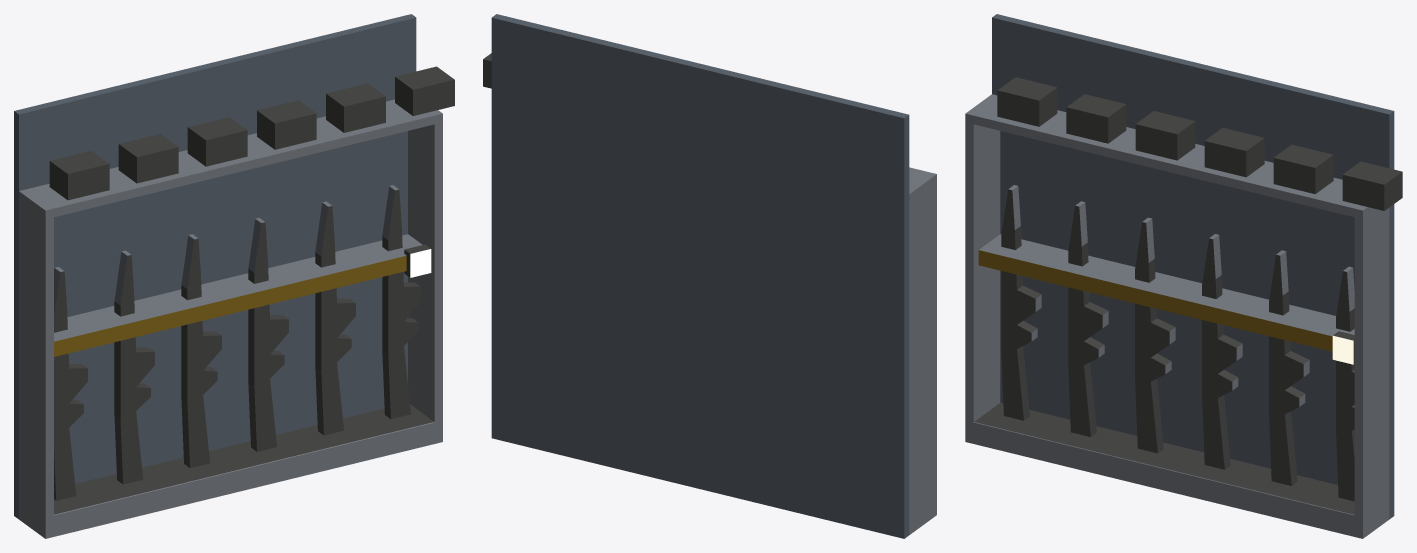
Rendered from rifle_rack.glb.
3 views of the same model, side by side, from view 1: azimuth 30°, elevation 25°; view 2: azimuth 150°, elevation 25°; view 3: azimuth 330°, elevation 25° (orthographic). The views are drawn at different scales.
Parts seen in each view (by area): view 1: rifle_rack; view 2: rifle_rack; view 3: rifle_rack.
Part boxes in pixels (<box>): rifle_rack: <box>14,14,454,538</box>; rifle_rack: <box>483,14,936,538</box>; rifle_rack: <box>965,14,1402,538</box>.
Bounding box in the file's own units: 1.98 × 1.85 × 0.26.
